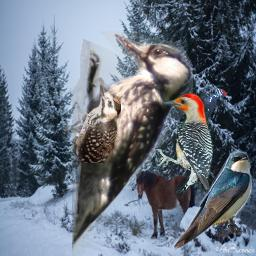Swallow: (170, 148, 255, 251)
Woodpecker: (72, 31, 193, 256), (155, 93, 215, 196), (64, 77, 121, 163), (199, 82, 227, 131)
